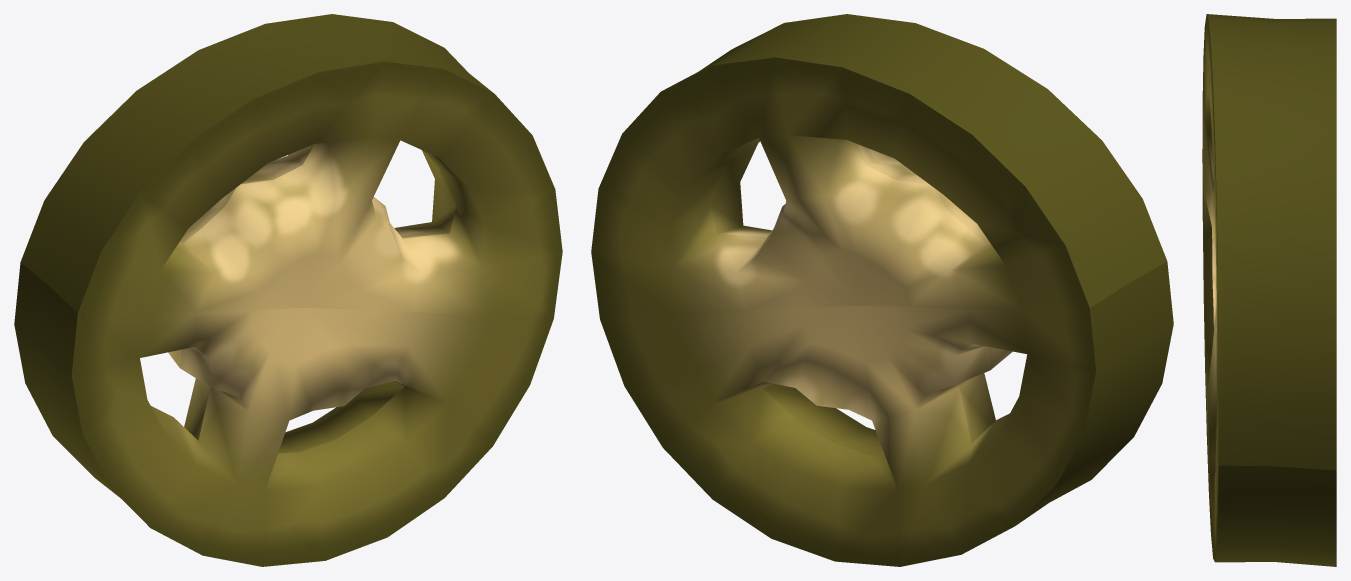
Rendered from JalapenoSlice_1.fbx.
3 renders of one model, left to right at view 1: azimuth 30°, elevation 25°; view 2: azimuth 150°, elevation 25°; view 3: azimuth 270°, elevation 25°, orthographic.
Parts seen in each view (by area): view 1: JalapenoSlice_1; view 2: JalapenoSlice_1; view 3: JalapenoSlice_1.
Part boxes in pixels (x1,y1,x2,y2): JalapenoSlice_1: (14, 14, 562, 566); JalapenoSlice_1: (591, 14, 1173, 566); JalapenoSlice_1: (1202, 14, 1336, 566).
Size of the model in its own units: 0.0214 by 0.0197 by 0.00489.
1 material, 1 textured.
